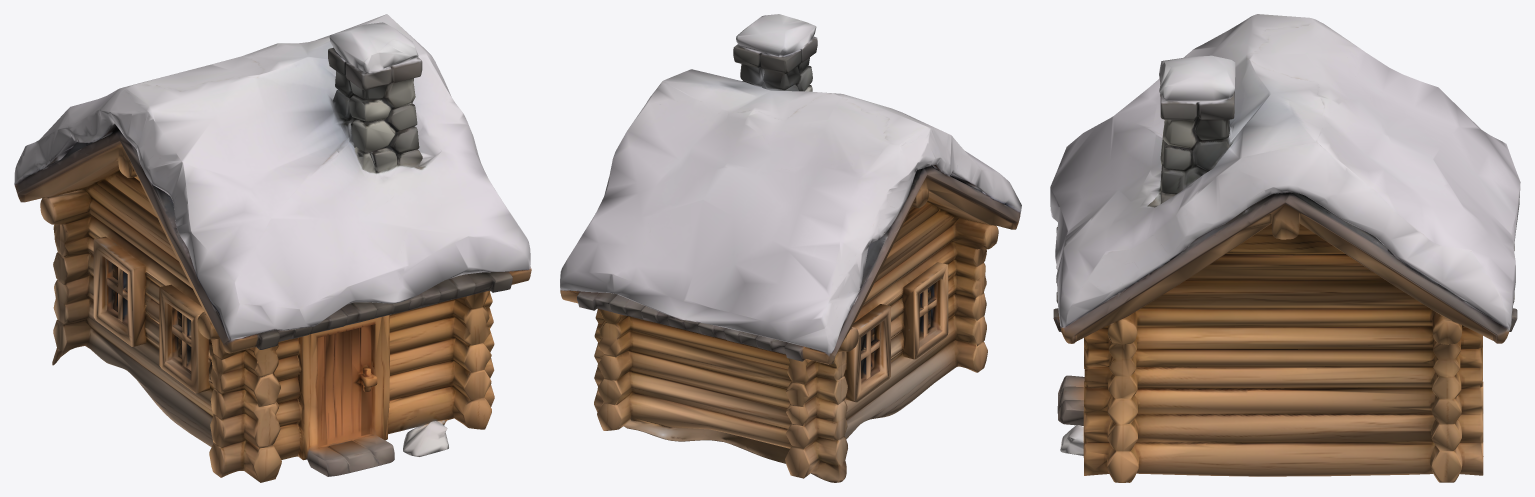
File: cabin.glb
3 renders of one model, left to right at view 1: azimuth 30°, elevation 25°; view 2: azimuth 150°, elevation 25°; view 3: azimuth 270°, elevation 25°, orthographic. The views are drawn at different scales.
Parts seen in each view (by area): view 1: node_0; view 2: node_0; view 3: node_0.
Part boxes in pixels (x1=…): node_0: x1=14, y1=14, x2=531, y2=482; node_0: x1=560, y1=14, x2=1021, y2=482; node_0: x1=1050, y1=14, x2=1520, y2=482.
Size of the model in its own units: 0.6901 by 0.8062 by 0.8827.
Materials: 1 (1 with a texture image).
